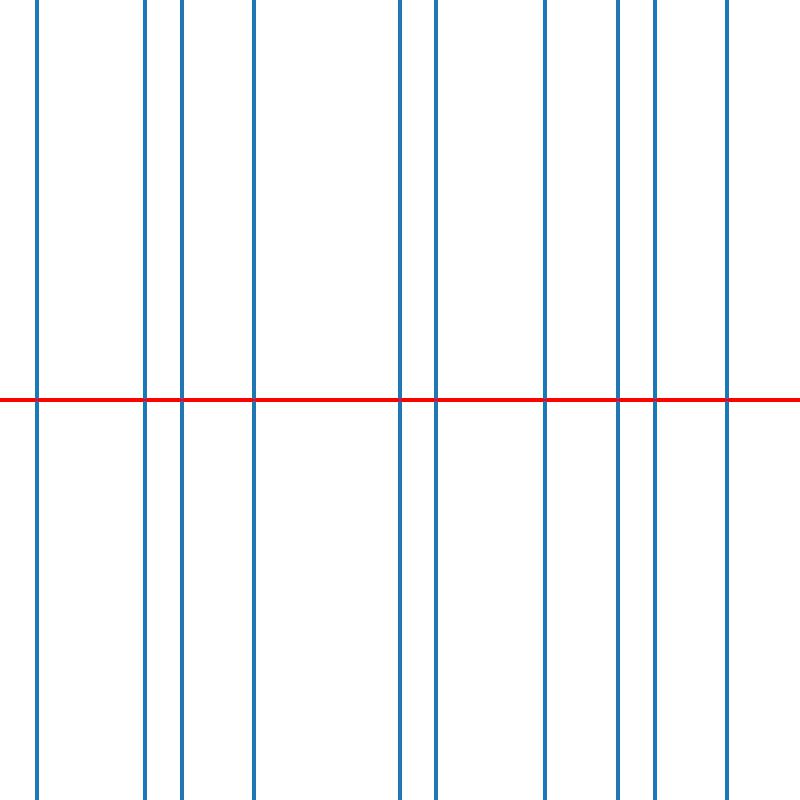root: (32, 396, 40, 404), (650, 396, 658, 404), (250, 396, 258, 404), (432, 396, 440, 404), (141, 396, 149, 404), (541, 396, 549, 404), (723, 396, 730, 404), (614, 396, 621, 404), (396, 396, 403, 404), (178, 396, 185, 404)
